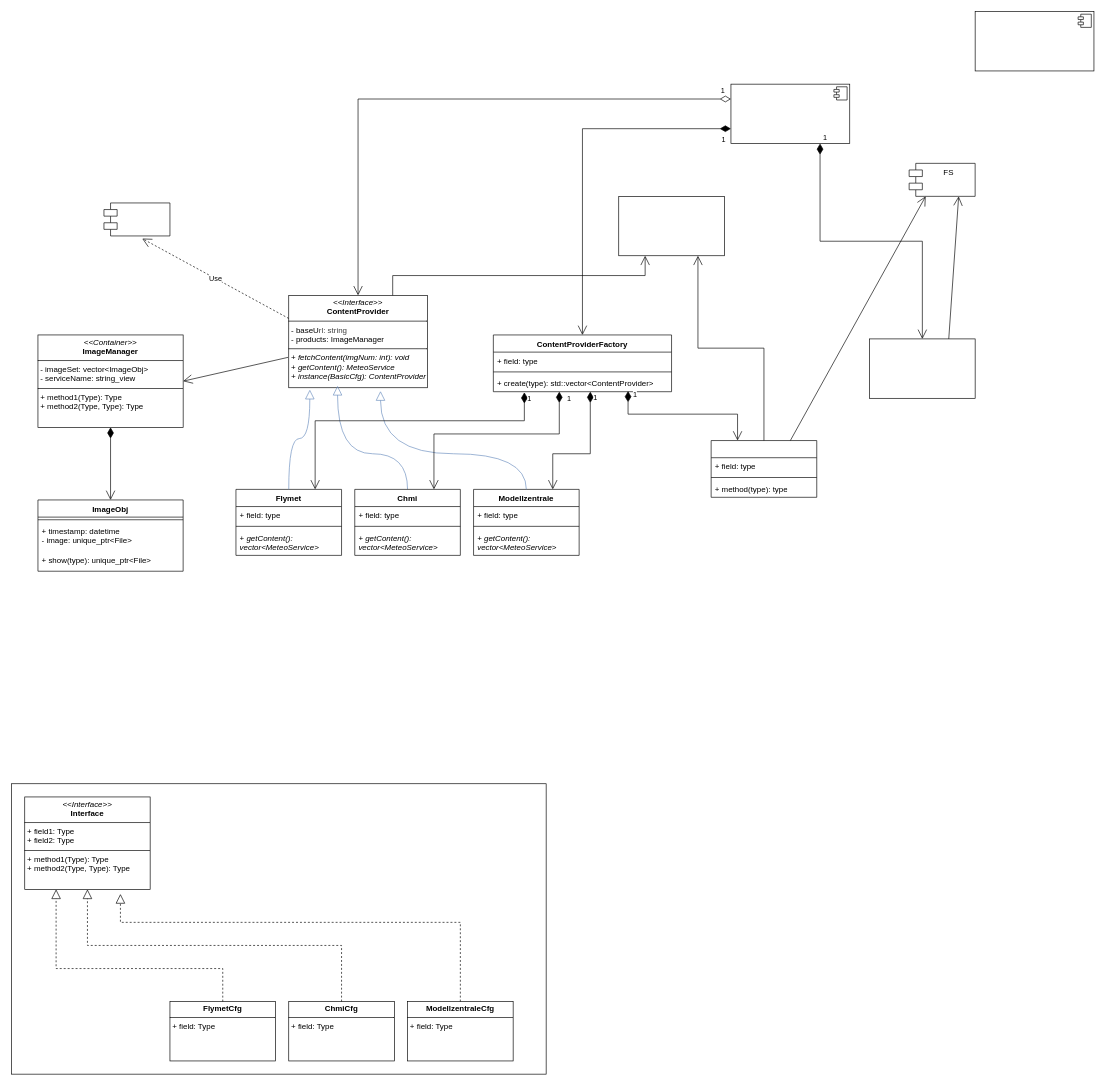
Some shapes in this 1106 by 1086 pixel diagram are drawn without their labels. The shapes that lost their labels are listed below. From the top down, each one's box as (x1, y1, x2, y2) in pixels, then its label:
(974, 11, 1094, 71): DesktopApp + Attribute1: Type + Attribute2: Type
(730, 83, 850, 144): TerminalApp + Attribute1: Type + Attribute2: Type
(103, 202, 170, 236): Restbed
(618, 196, 724, 256): BasicCfg + imgNum: uint + process: Bool
(869, 338, 975, 398): GifCreator - step: uint + method(ImgHandler): Type
(710, 440, 817, 497): CfgReader
